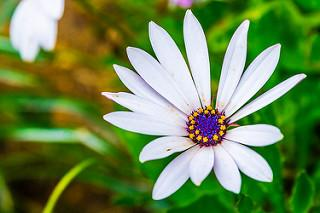daisy: (103, 7, 310, 204)
